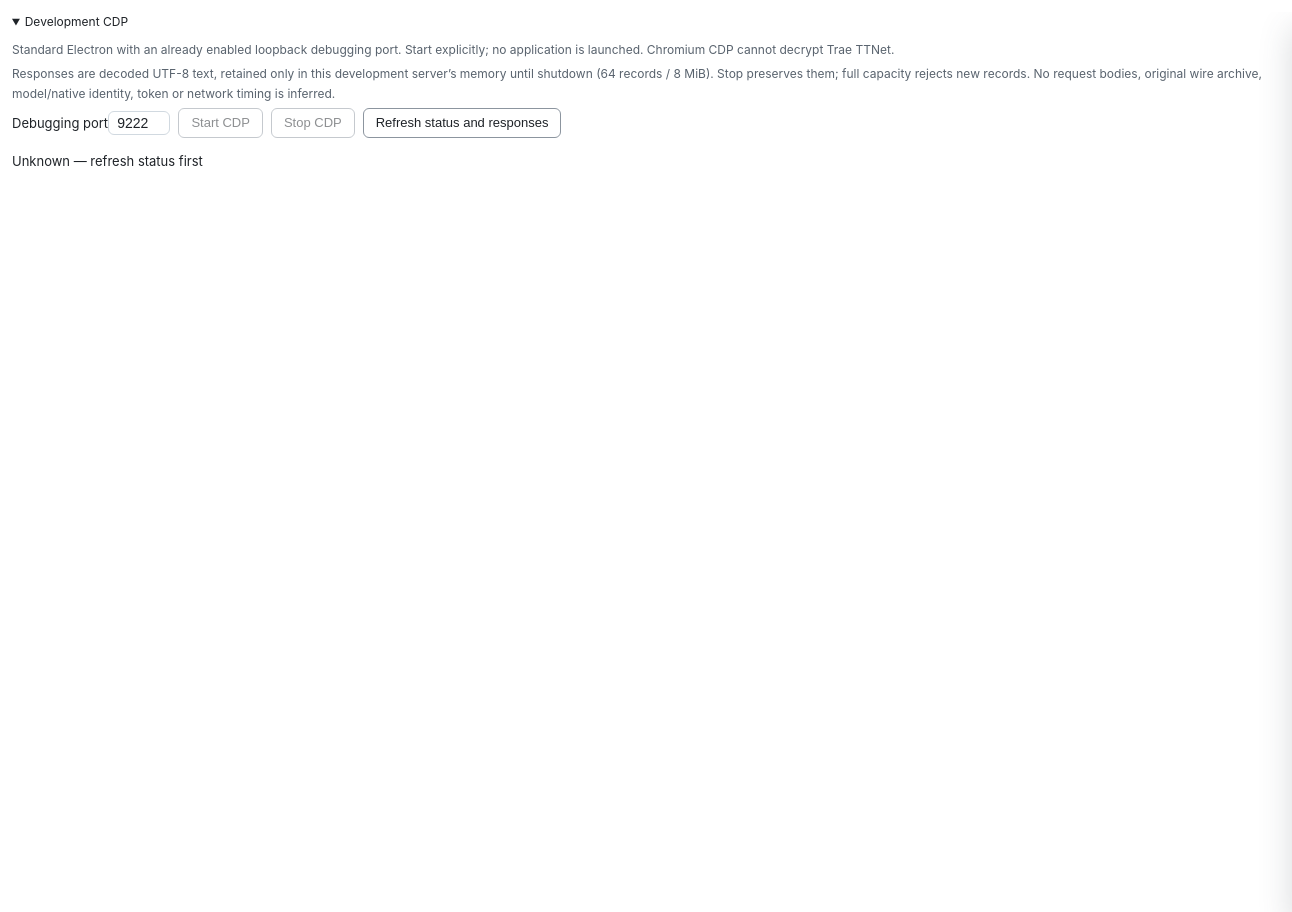
explicit development CDP workspace › shows production dev-only guidance and allows an explicit read retry
Click the button "Refresh status and responses" at (462, 123), box [363, 108, 561, 138]
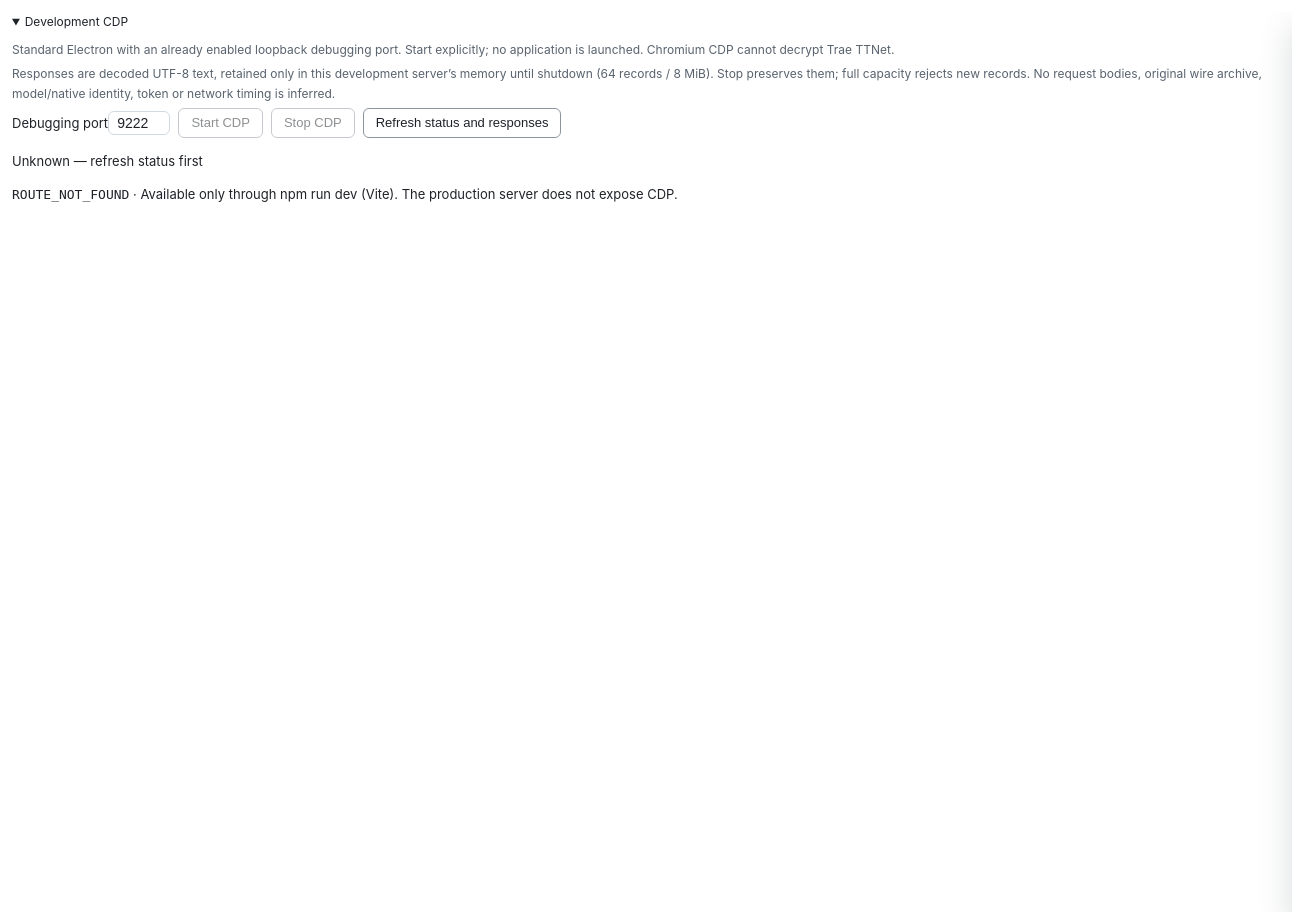
Expected: the text "npm run dev" is shown, [140, 186, 678, 202]
Expected: the text "ROUTE_NOT_FOUND" is shown, [12, 187, 129, 202]
Click the button "Refresh status and responses" at (462, 123), box [363, 108, 561, 138]
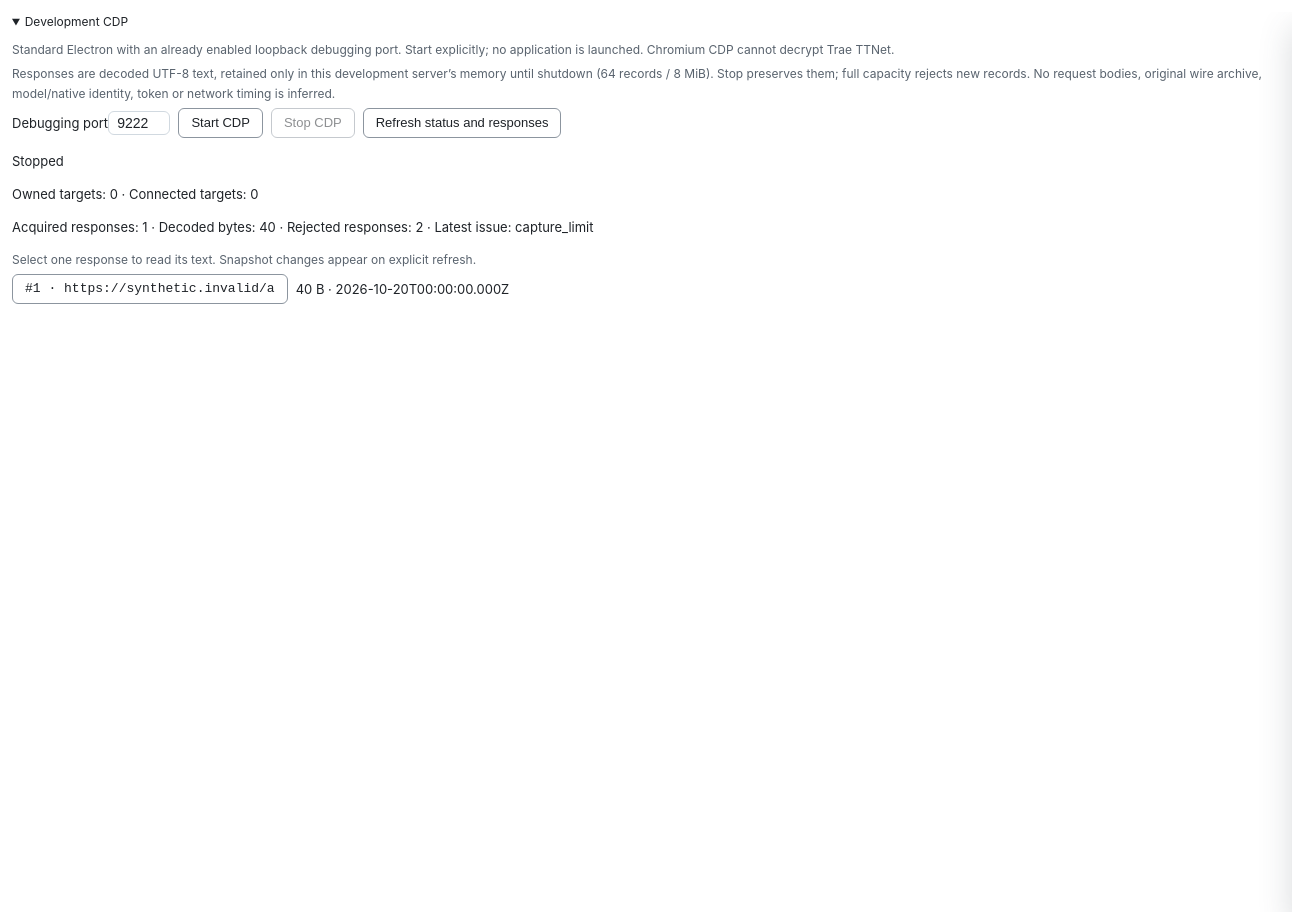
Expected: the text "ROUTE_NOT_FOUND" is gone
